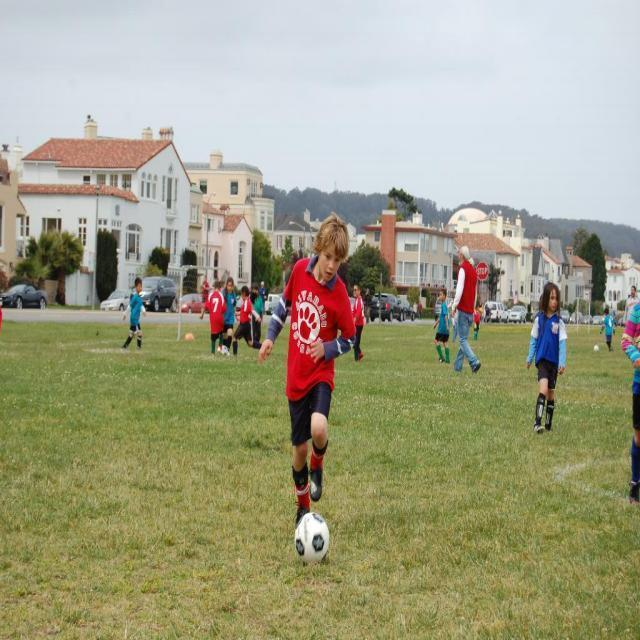ball: (296, 507, 331, 566)
